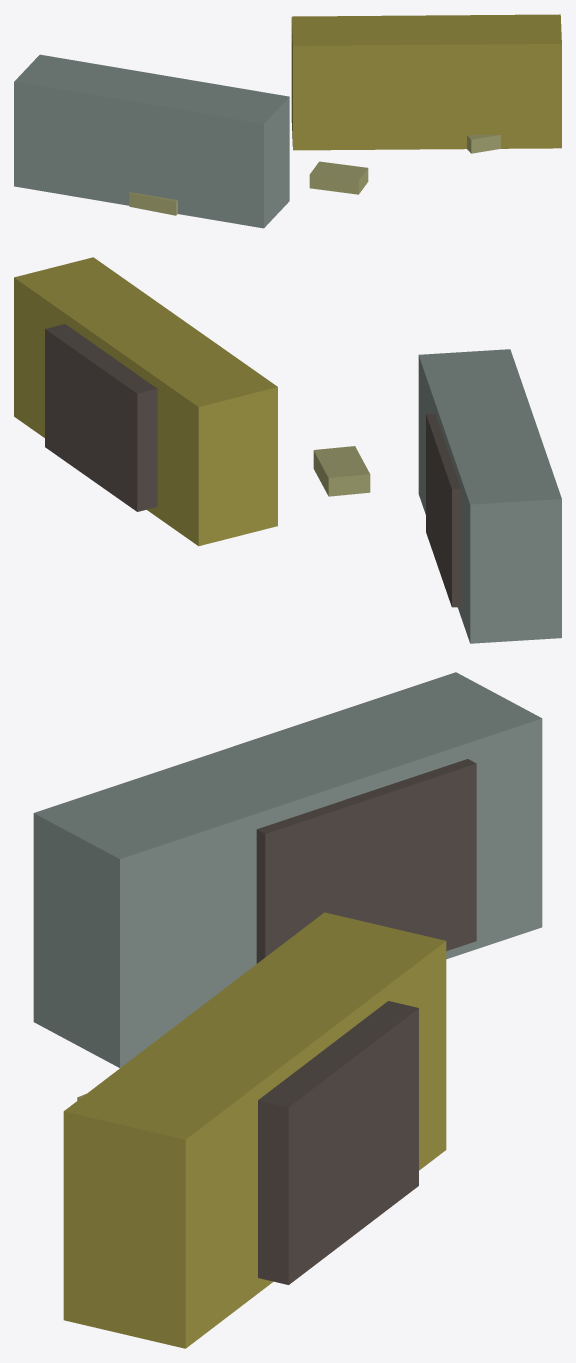
The model's file is SM_BarricadaCivil_v0_Coches_e3_Brecha_LOD0.fbx.
3 views of the same model, one above another, from view 1: azimuth 30°, elevation 25°; view 2: azimuth 150°, elevation 25°; view 3: azimuth 270°, elevation 25° (orthographic). The views are drawn at different scales.
Parts seen in each view (by area): view 1: SM_barricada_civil_v3_LOD0; view 2: SM_barricada_civil_v3_LOD0; view 3: SM_barricada_civil_v3_LOD0.
Part boxes in pixels (box(x1,y1,x2,y2)): SM_barricada_civil_v3_LOD0: box(14, 14, 561, 228); SM_barricada_civil_v3_LOD0: box(14, 257, 561, 643); SM_barricada_civil_v3_LOD0: box(33, 672, 542, 1348).
Bounding box in the file's own units: 8.64 × 1.8 × 3.97.
